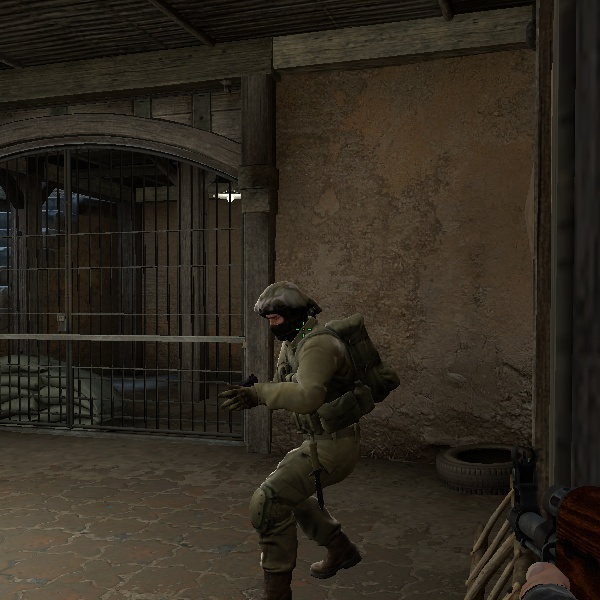ct_body: (202, 279, 376, 599)
ct_head: (252, 283, 320, 355)
